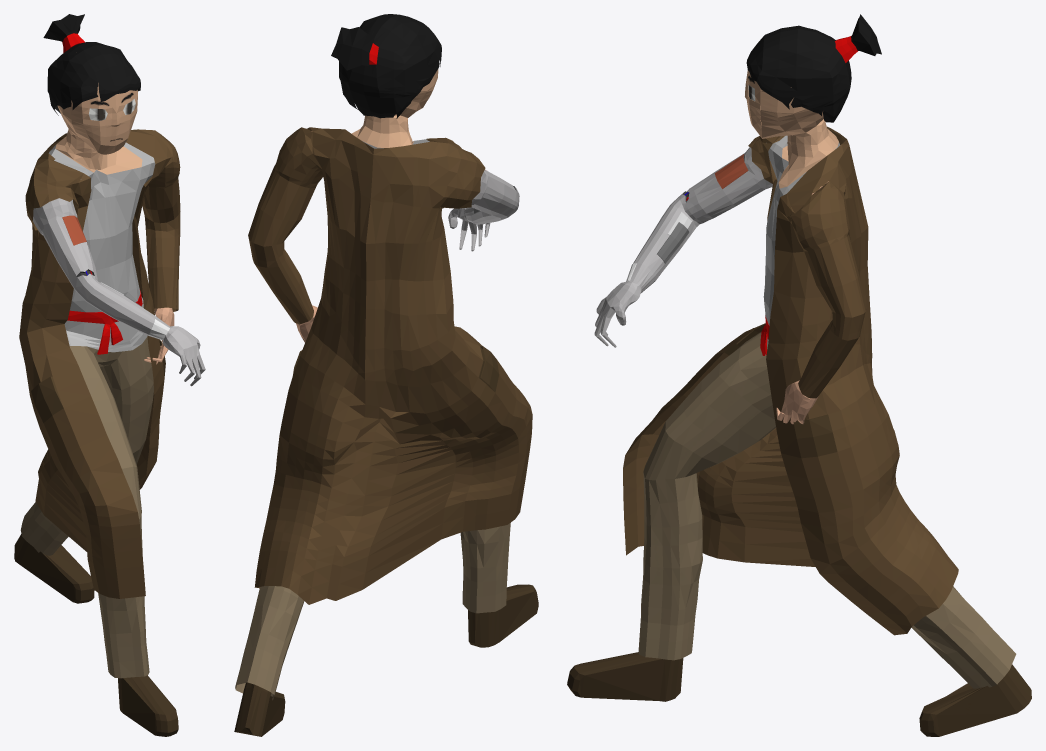
The model's file is Special_Attack_000033.obj.
3 renders of one model, left to right at view 1: azimuth 30°, elevation 25°; view 2: azimuth 150°, elevation 25°; view 3: azimuth 270°, elevation 25°, orthographic. The views are drawn at different scales.
Visible parts, largest first — view 1: Hair_Cube.004; view 2: Hair_Cube.004; view 3: Hair_Cube.004.
Boxes of the visible parts, x1,y1,x2,y2 form: Hair_Cube.004: (14, 14, 205, 736); Hair_Cube.004: (234, 14, 538, 736); Hair_Cube.004: (567, 14, 1031, 736).
Size of the model in its own units: 1.13 by 3.71 by 2.26.
